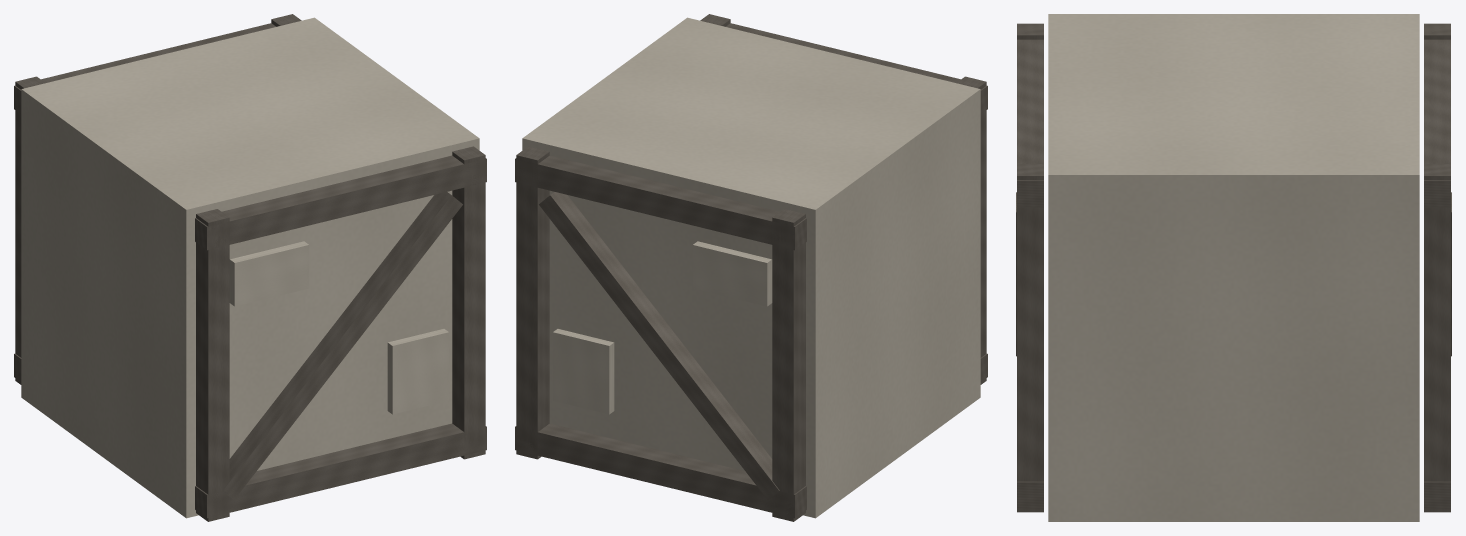
File: lime_wall_z.glb
3 renders of one model, left to right at view 1: azimuth 30°, elevation 25°; view 2: azimuth 150°, elevation 25°; view 3: azimuth 270°, elevation 25°, orthographic. The views are drawn at different scales.
Parts seen in each view (by area): view 1: G3_lime_z; view 2: G3_lime_z; view 3: G3_lime_z.
Part boxes in pixels (x1,y1,x2,y2): G3_lime_z: [14, 14, 486, 521]; G3_lime_z: [515, 14, 987, 521]; G3_lime_z: [1016, 14, 1451, 521].
Size of the model in its own units: 0.985 by 0.99 by 1.13.
2 materials, 2 textured.
